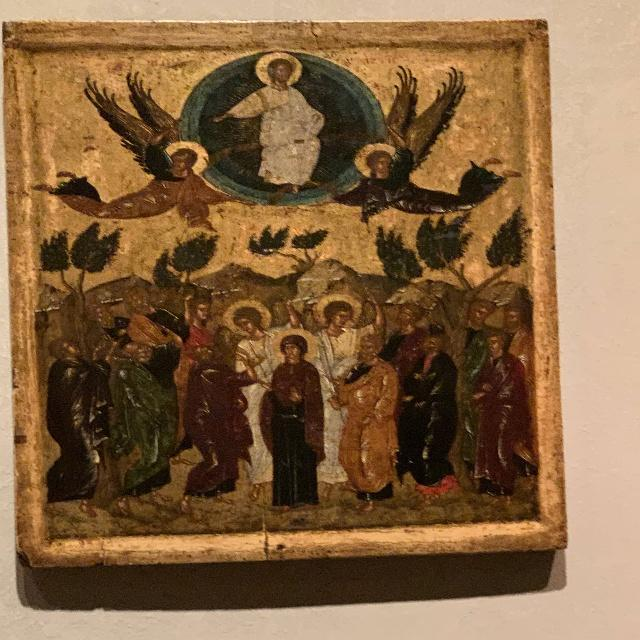angel: (44, 50, 230, 229), (328, 63, 508, 214)
aura: (254, 51, 306, 86), (353, 143, 401, 180), (163, 141, 209, 174), (271, 332, 318, 364), (315, 296, 361, 328), (224, 303, 269, 335)
christ_resurrected: (215, 49, 364, 202)
mary: (259, 330, 335, 508)
wing: (81, 81, 161, 177), (404, 65, 470, 170), (124, 69, 184, 134), (385, 66, 428, 138)
